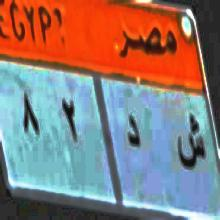2: (59, 93, 79, 144)
8: (20, 92, 41, 142)
daal: (124, 110, 142, 152)
sheen: (175, 112, 206, 173)
